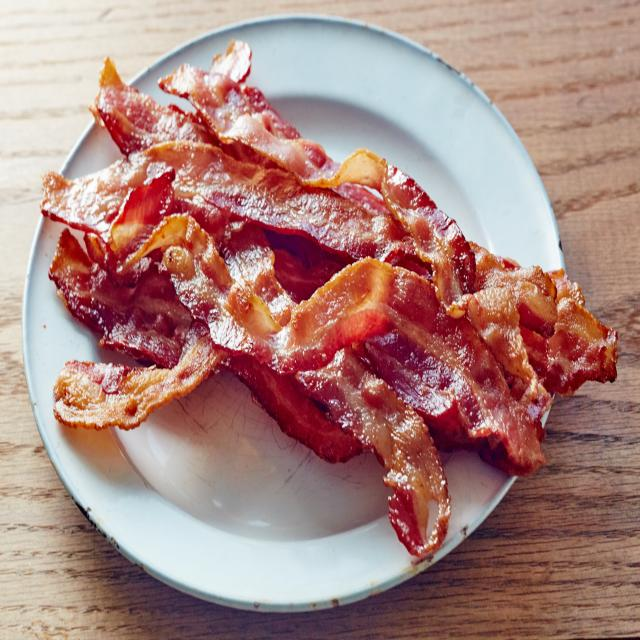Bacon: (41, 41, 618, 559), (150, 216, 541, 471), (162, 218, 544, 472), (41, 141, 420, 268), (295, 347, 450, 559), (331, 182, 390, 216)
